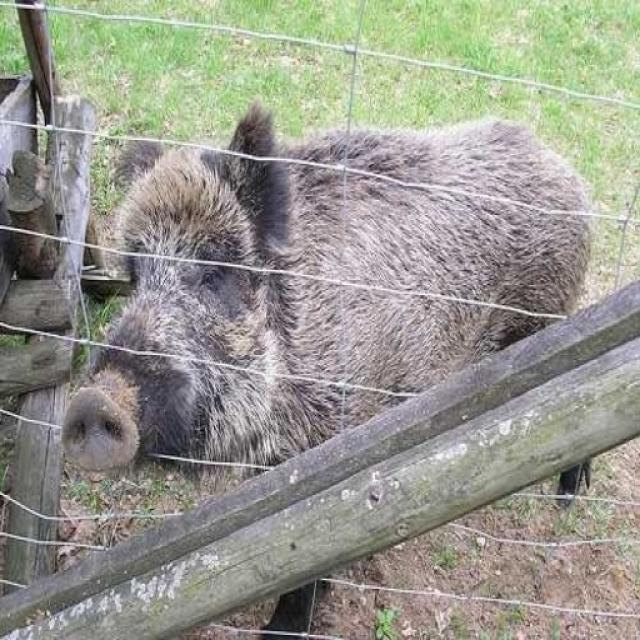pig: (77, 84, 613, 495)
